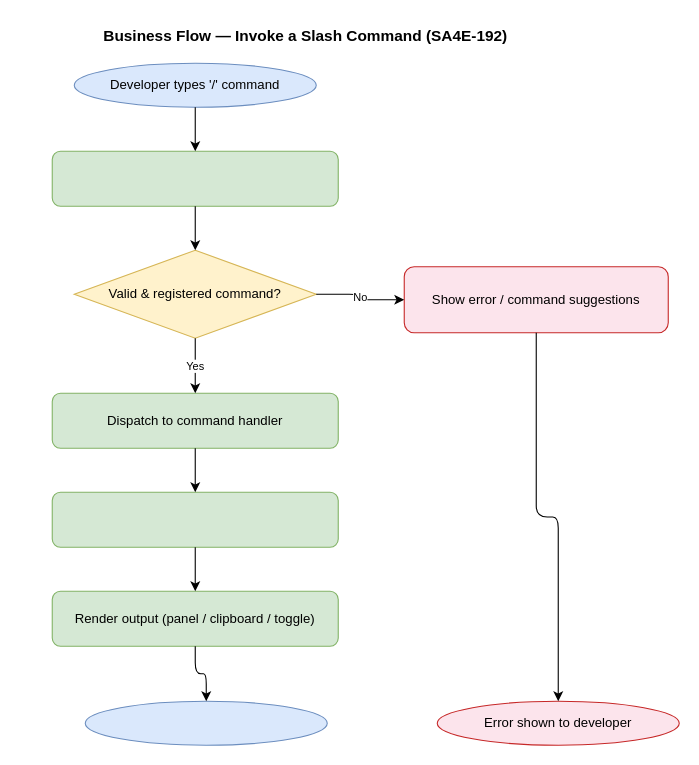
This 699x765 diagram has some shape labels left out. The box of each missing label's shape, as (x1, y1, x2, y2) in pixels:
Handler executes command logic: (51, 491, 338, 547)
Output delivered to developer: (84, 700, 327, 745)
SlashMenuController intercepts command input: (51, 150, 338, 206)
